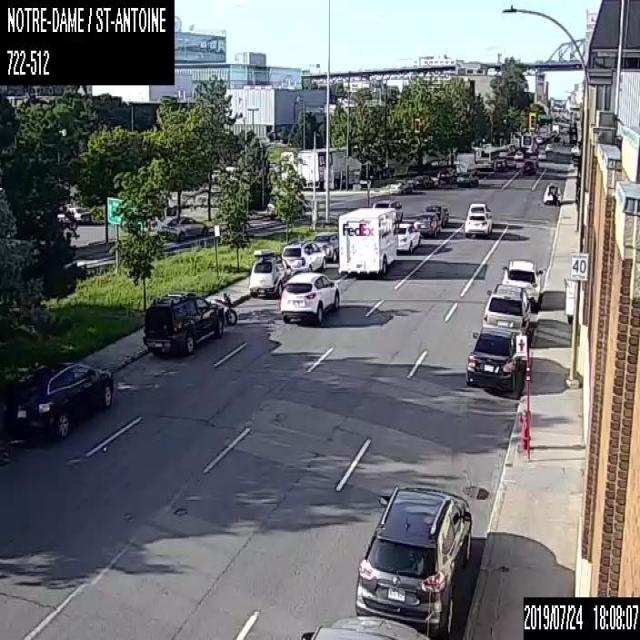vehicle: (354, 482, 474, 632), (7, 357, 113, 440), (141, 288, 222, 360), (338, 206, 398, 274), (466, 326, 524, 392), (302, 611, 435, 639), (280, 270, 338, 320), (481, 280, 534, 334), (248, 247, 290, 295), (500, 258, 542, 306), (282, 239, 326, 271), (161, 215, 209, 240), (205, 291, 237, 324), (462, 212, 492, 237), (371, 198, 403, 221), (313, 230, 338, 259), (397, 222, 420, 252), (415, 211, 440, 236), (422, 204, 449, 223), (542, 181, 562, 204), (455, 170, 479, 186), (467, 200, 490, 216), (413, 173, 434, 190), (437, 166, 456, 184), (388, 178, 409, 194), (522, 156, 538, 173), (492, 157, 506, 170), (498, 144, 509, 156), (513, 149, 523, 159), (537, 148, 546, 159), (507, 142, 514, 153), (544, 142, 553, 150)
